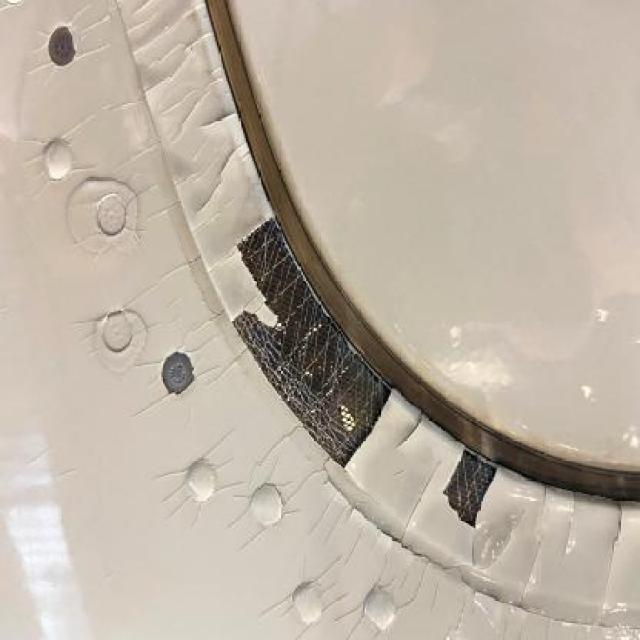crack: (403, 463, 440, 541), (401, 413, 424, 449), (206, 110, 237, 126)
